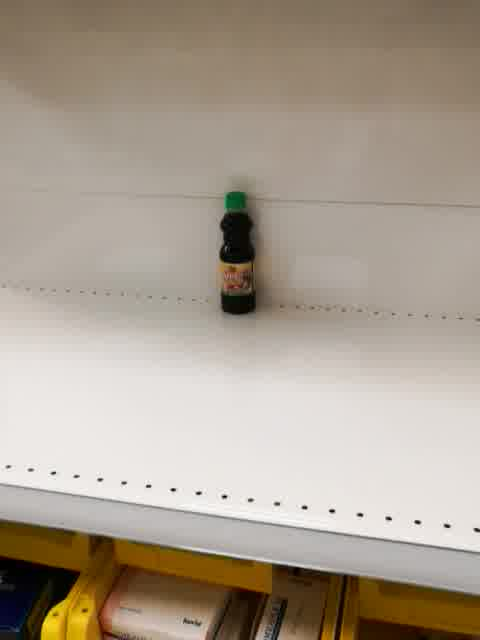cookingoil: (217, 191, 259, 316)
